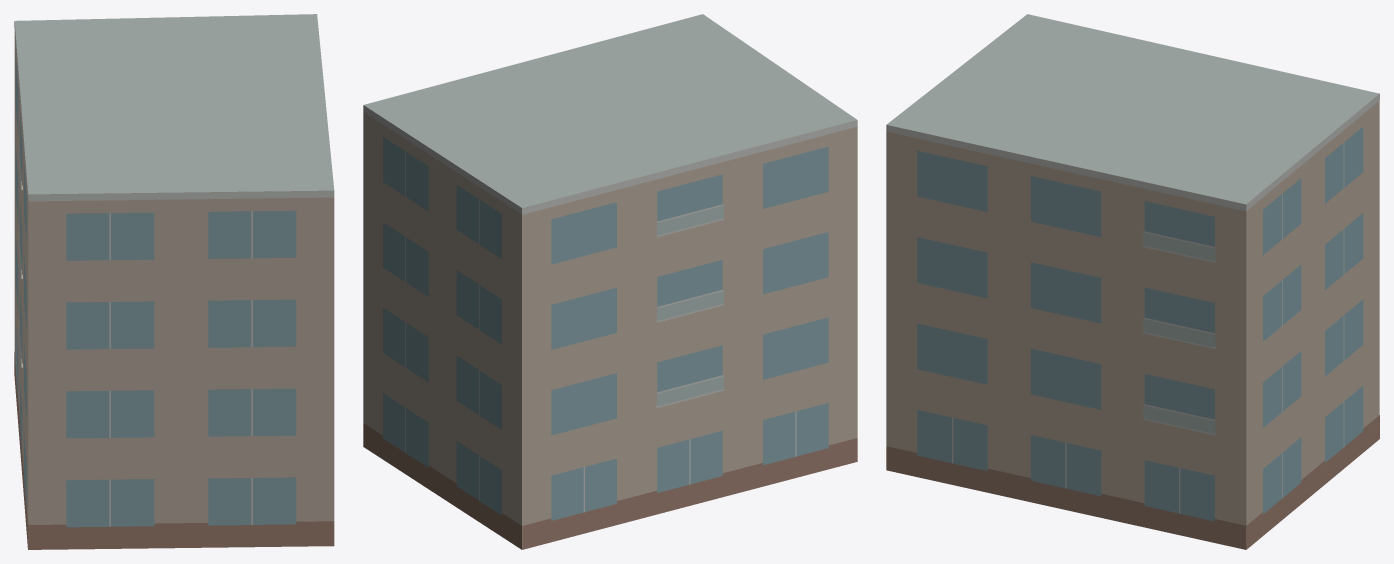
File: survey-upis-32891583.glb
The picture shows the model from 3 angles, left to right: view 1: azimuth 30°, elevation 25°; view 2: azimuth 150°, elevation 25°; view 3: azimuth 270°, elevation 25°; orthographic projection. The views are drawn at different scales.
Parts seen in each view (by area): view 1: survey-upis-32891583.tmp; view 2: survey-upis-32891583.tmp; view 3: survey-upis-32891583.tmp.
Boxes of the visible parts, x1,y1,x2,y2 form: survey-upis-32891583.tmp: (14, 14, 334, 549); survey-upis-32891583.tmp: (363, 14, 857, 549); survey-upis-32891583.tmp: (886, 14, 1379, 549).
Size of the model in its own units: 14.67 by 12.4 by 16.06.
